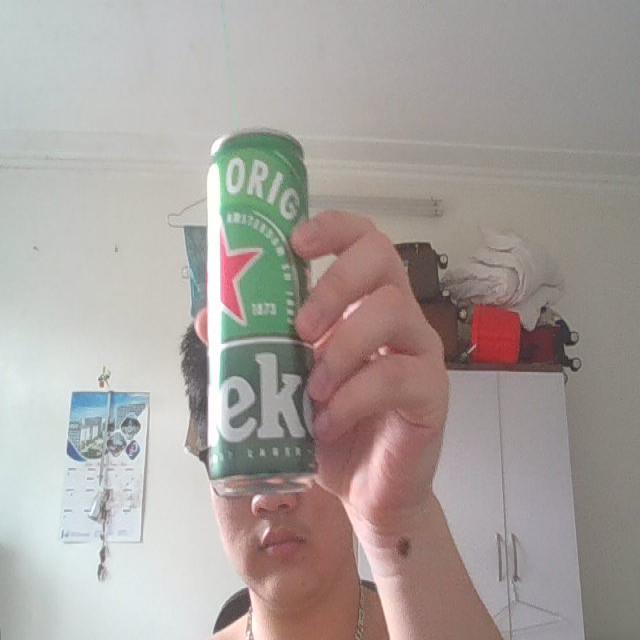Heineken: (204, 125, 320, 494)
